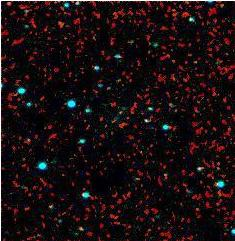star: (106, 103, 136, 133)
